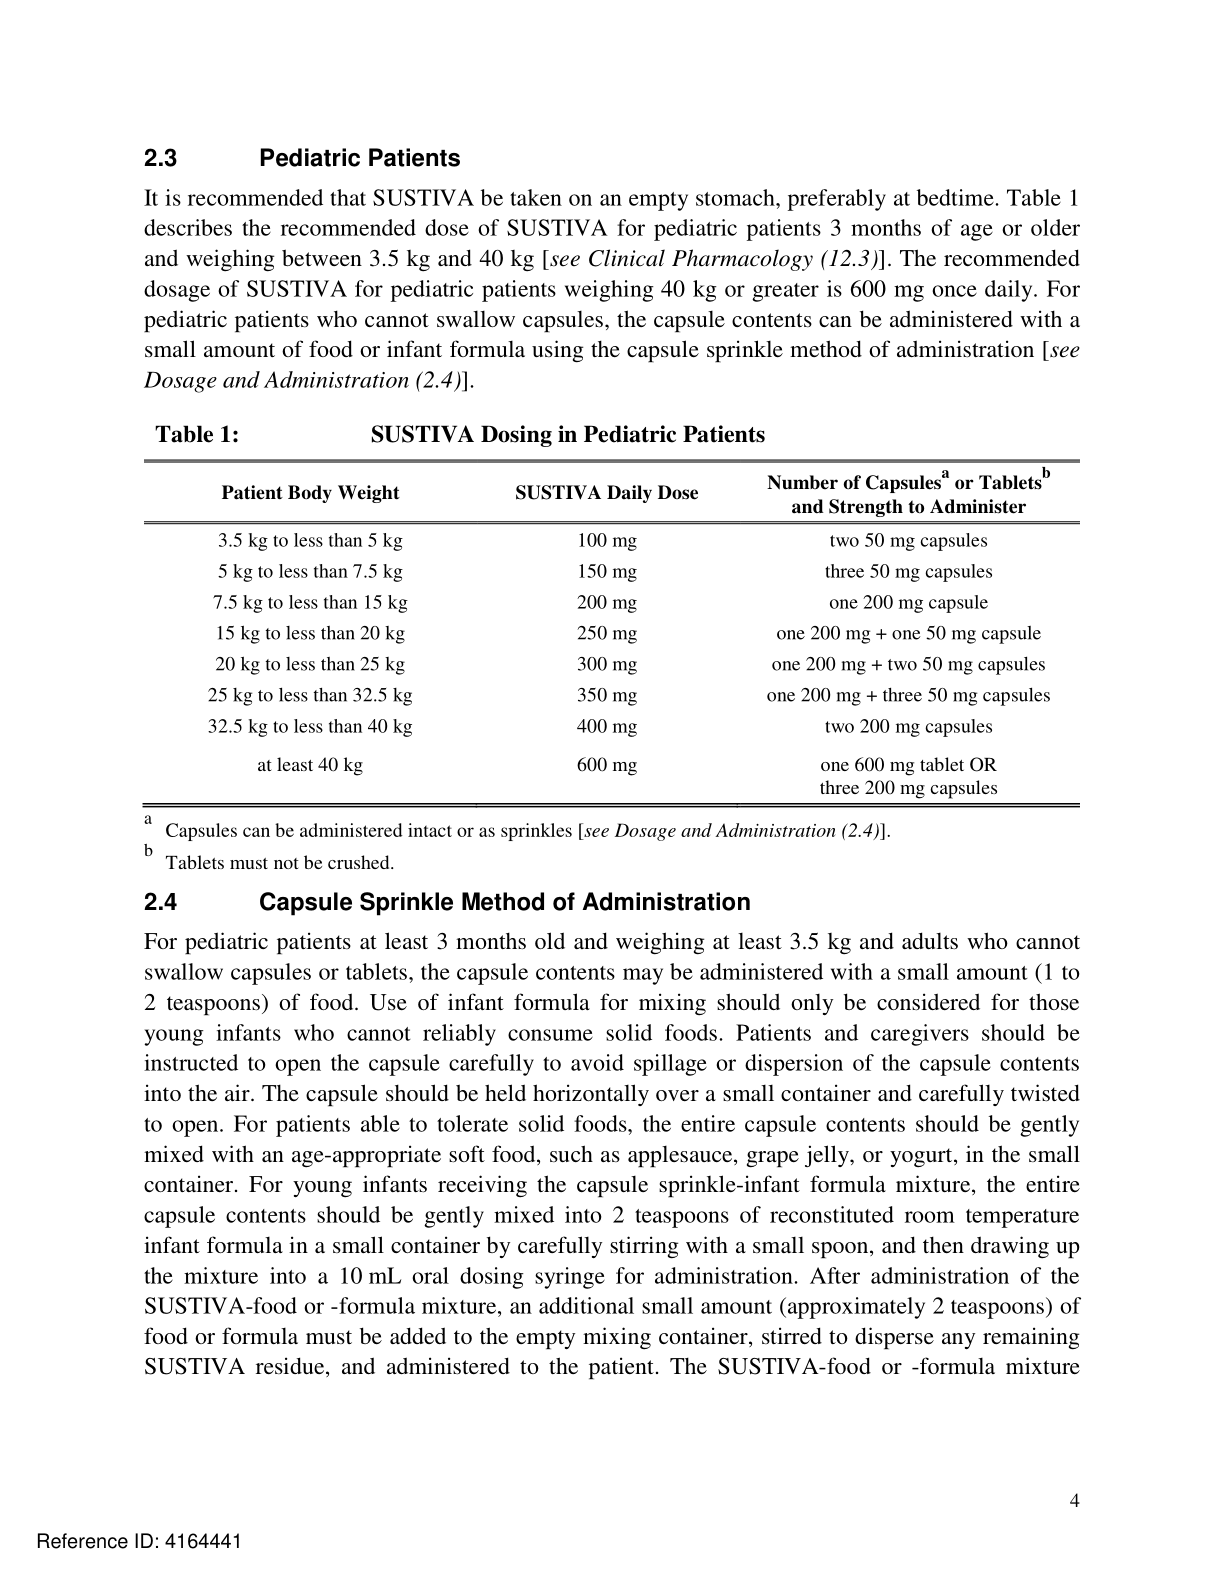partial_lined: (141, 458, 1083, 809)
